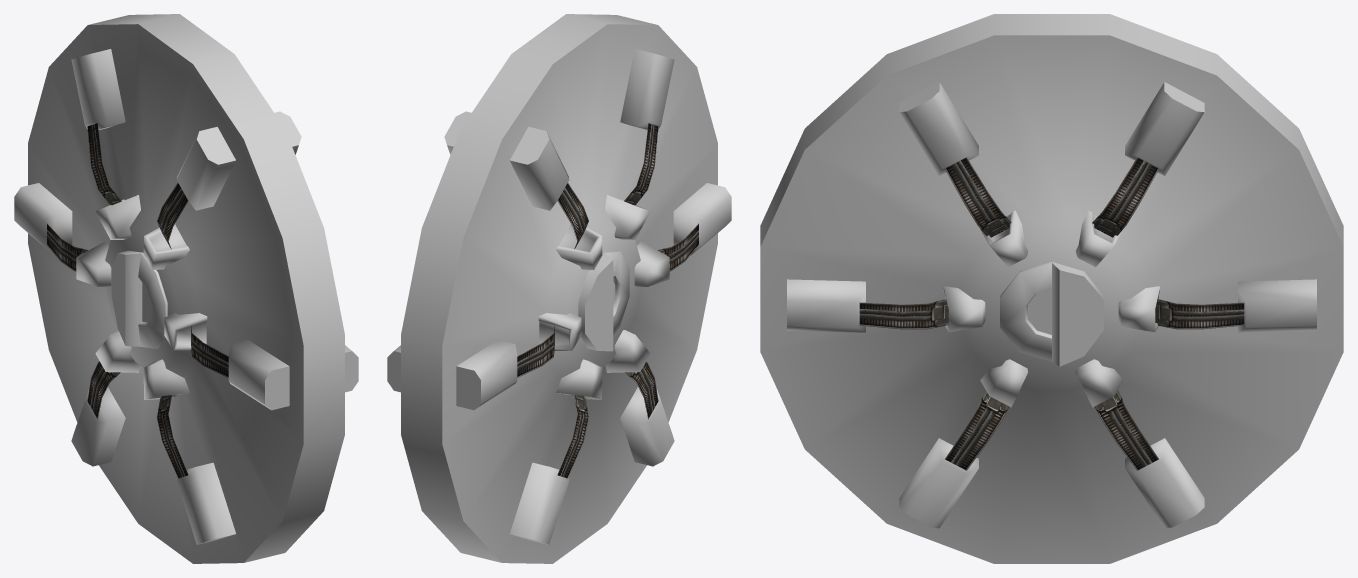
The model's file is exterior_door.fbx.
3 renders of one model, left to right at view 1: azimuth 30°, elevation 25°; view 2: azimuth 150°, elevation 25°; view 3: azimuth 270°, elevation 25°, orthographic. The views are drawn at different scales.
Parts seen in each view (by area): view 1: polySurface172, polySurface168, polySurface171; view 2: polySurface172, polySurface168, polySurface171; view 3: polySurface172, polySurface168, polySurface171.
Boxes of the visible parts, x1=… form: polySurface172: x1=14, y1=14, x2=358, y2=563; polySurface168: x1=47, y1=123, x2=228, y2=478; polySurface171: x1=111, y1=250, x2=167, y2=348; polySurface172: x1=387, y1=14, x2=731, y2=563; polySurface168: x1=517, y1=123, x2=698, y2=478; polySurface171: x1=578, y1=250, x2=629, y2=351; polySurface172: x1=760, y1=14, x2=1343, y2=563; polySurface168: x1=859, y1=157, x2=1244, y2=470; polySurface171: x1=1000, y1=262, x2=1103, y2=366.
Size of the model in its own units: 0.8459 by 3.28 by 3.28.
